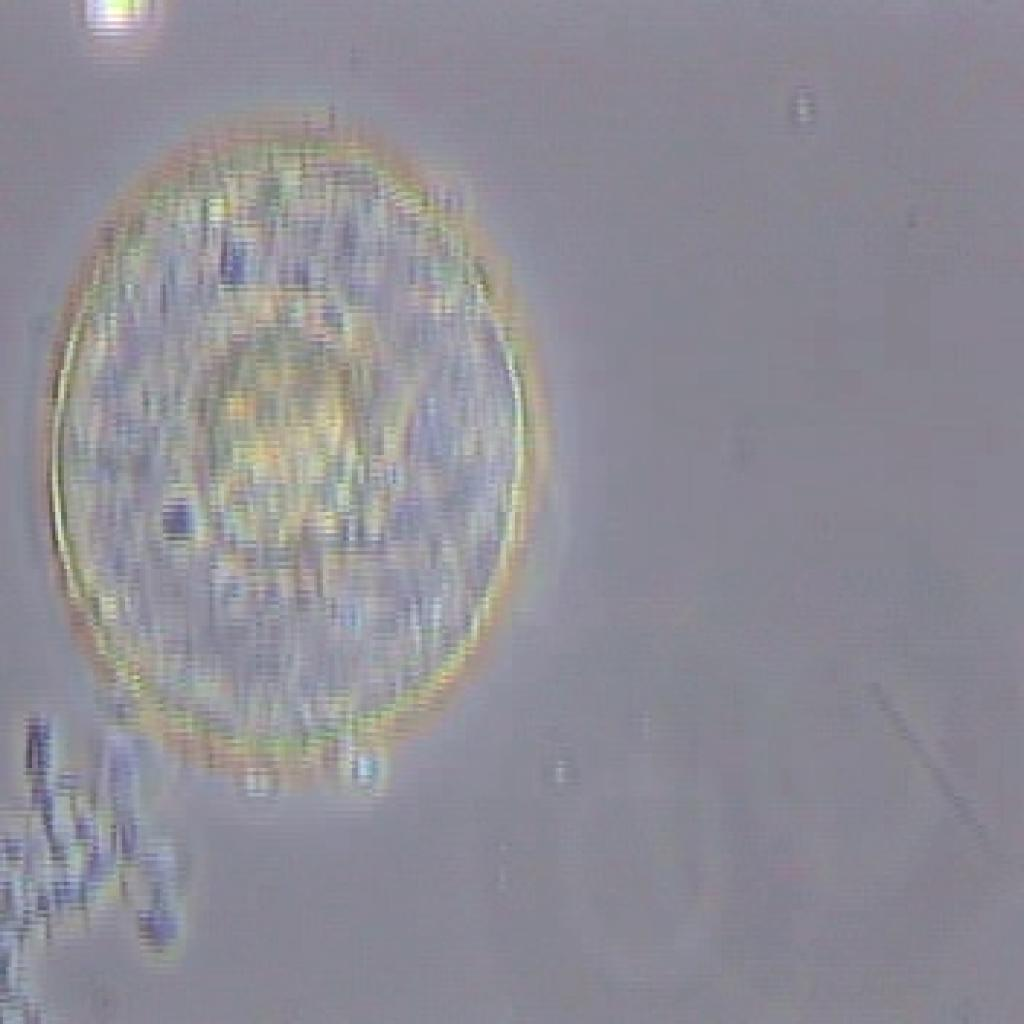Arcella: (41, 107, 535, 782)
